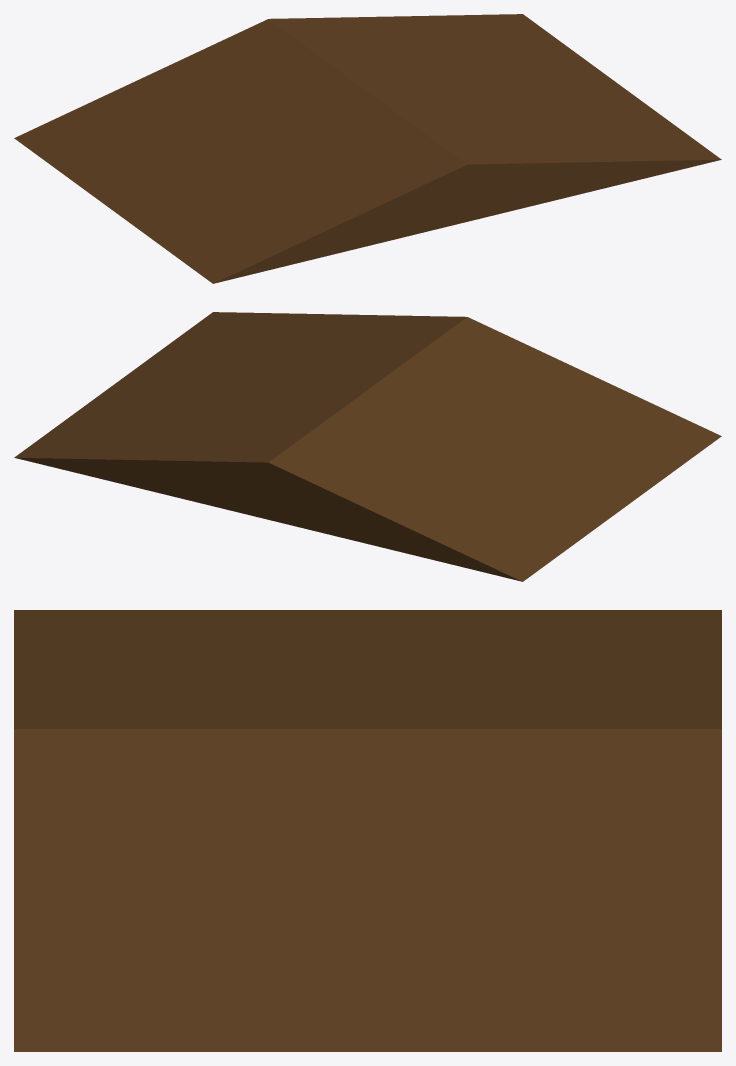
File: camp_house_roof.glb
3 renders of one model, top to bottom at view 1: azimuth 30°, elevation 25°; view 2: azimuth 150°, elevation 25°; view 3: azimuth 270°, elevation 25°, orthographic. The views are drawn at different scales.
Visible parts, largest first — view 1: CampHouseRoof; view 2: CampHouseRoof; view 3: CampHouseRoof.
Boxes of the visible parts, left/top/right/bottom form: CampHouseRoof: left=14, top=14, right=721, bottom=283; CampHouseRoof: left=14, top=312, right=721, bottom=581; CampHouseRoof: left=14, top=610, right=721, bottom=1051.
Bounding box in the file's own units: 18.6 × 2 × 12.6.
